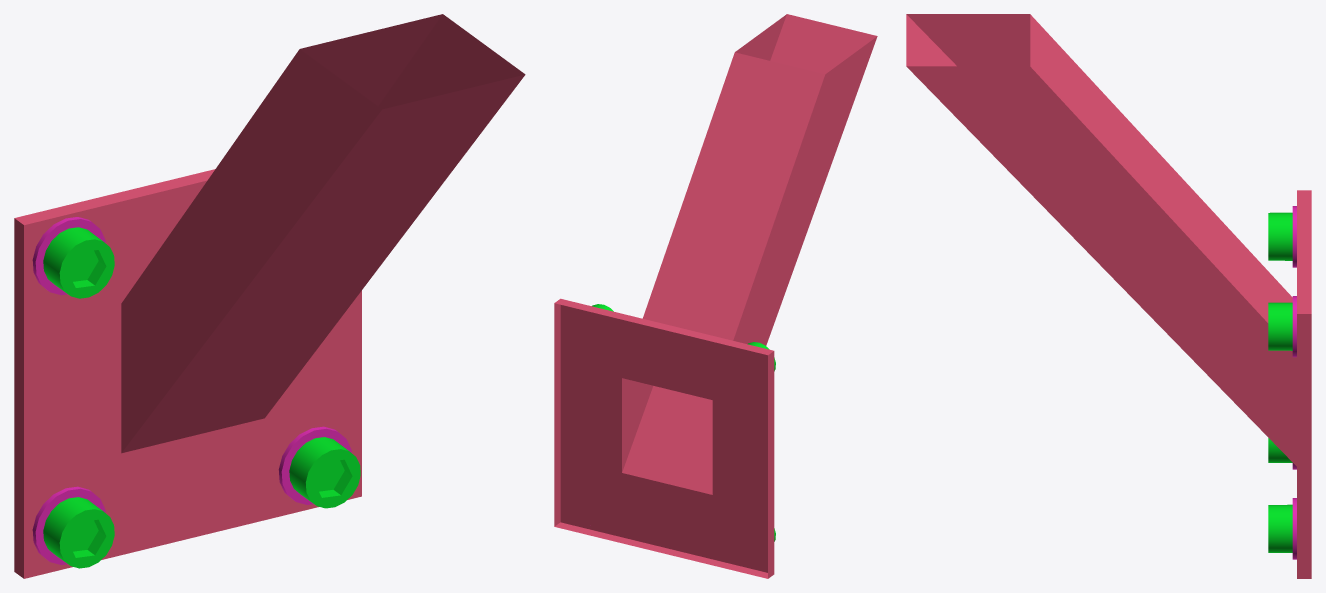
The model's file is Bracker90c.fbx.
3 renders of one model, left to right at view 1: azimuth 30°, elevation 25°; view 2: azimuth 150°, elevation 25°; view 3: azimuth 270°, elevation 25°, orthographic. The views are drawn at different scales.
Parts seen in each view (by area): view 1: Cube.011; view 2: Cube.011; view 3: Cube.011.
Part boxes in pixels (box(x1,y1,x2,y2)): Cube.011: box(14, 14, 525, 578); Cube.011: box(554, 14, 877, 578); Cube.011: box(906, 14, 1311, 578).
Bounding box in the file's own units: 4 × 7.2 × 5.55.
